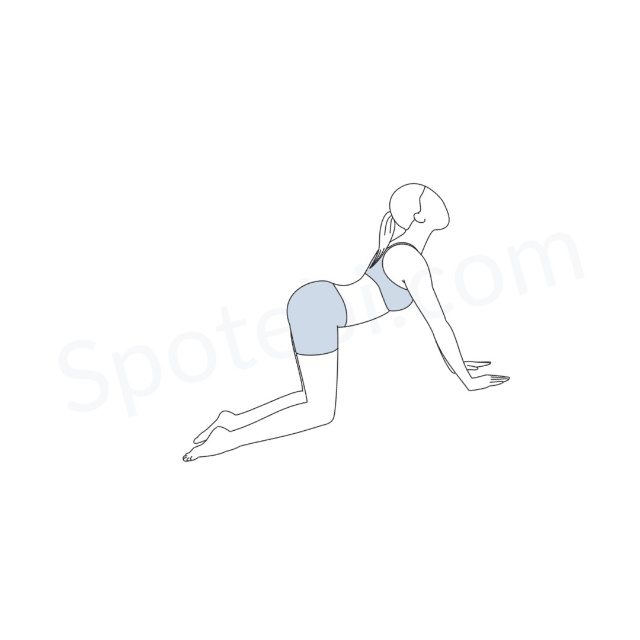Cow_Pose: (182, 184, 509, 461)
